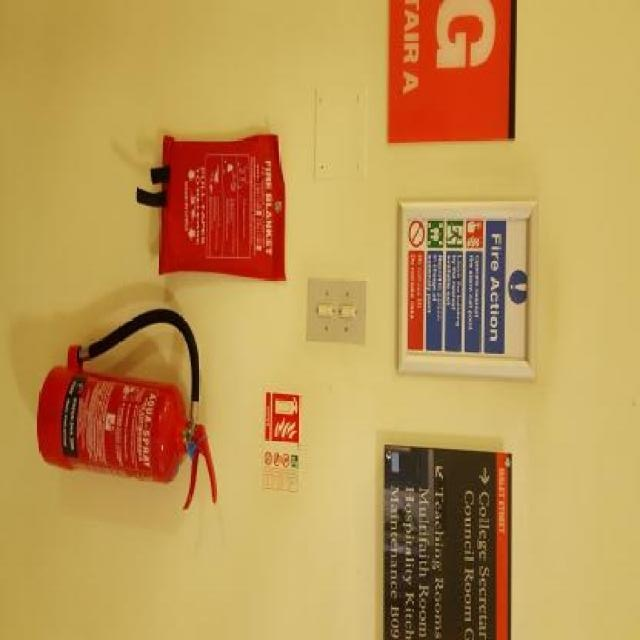fire extinguisher: (29, 310, 220, 516)
